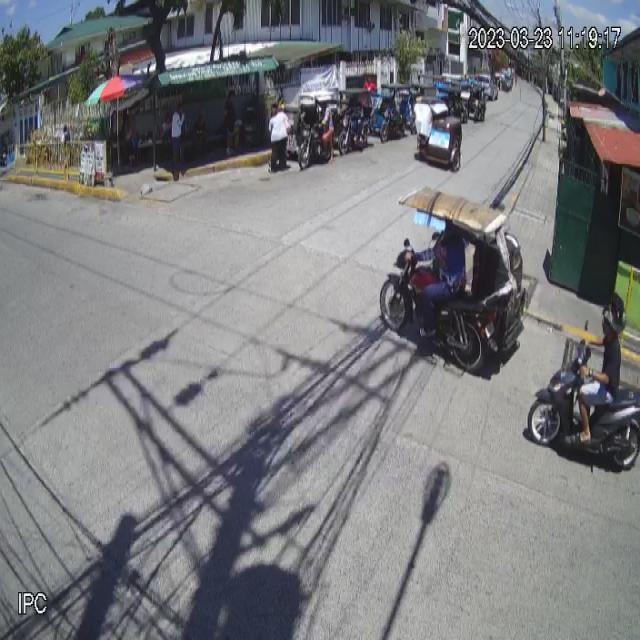Motorcycle: (526, 319, 640, 472)
Tricycle: (379, 185, 526, 375), (412, 96, 462, 171)
